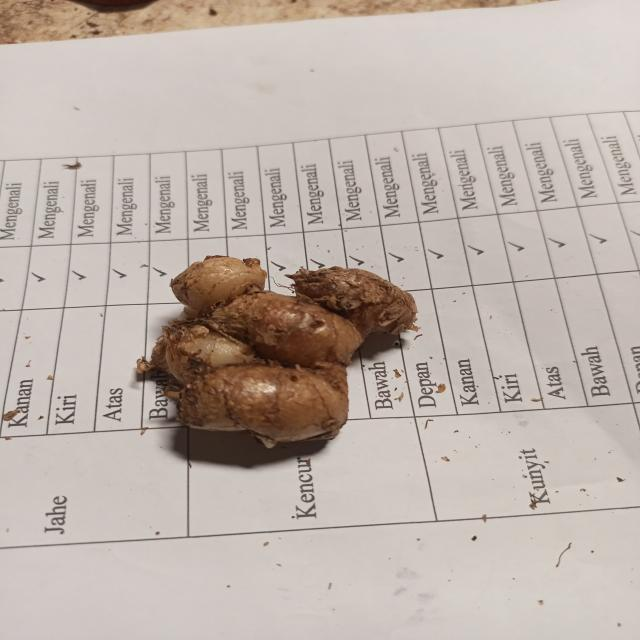ginger: (161, 253, 400, 434)
